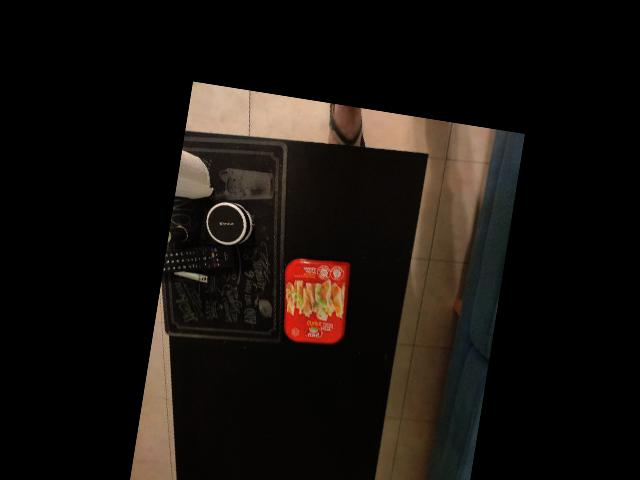cheese: (277, 244, 358, 350)
